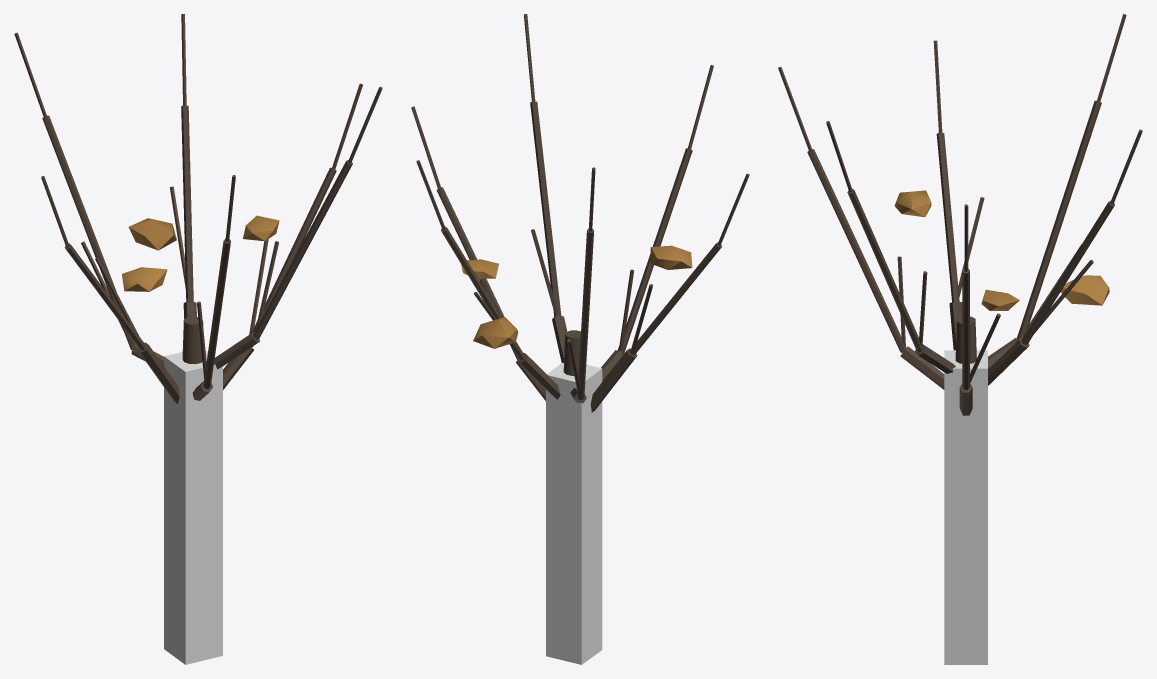
The model's file is tree_bare.glb.
3 renders of one model, left to right at view 1: azimuth 30°, elevation 25°; view 2: azimuth 150°, elevation 25°; view 3: azimuth 270°, elevation 25°, orthographic. The views are drawn at different scales.
Visible parts, largest first — view 1: tree_mesh, tree_bare-col; view 2: tree_mesh, tree_bare-col; view 3: tree_mesh, tree_bare-col.
Boxes of the visible parts, left/top/right/bottom form: tree_mesh: left=14, top=14, right=382, bottom=403; tree_bare-col: left=164, top=350, right=222, bottom=664; tree_mesh: left=411, top=14, right=749, bottom=412; tree_bare-col: left=546, top=362, right=602, bottom=664; tree_mesh: left=778, top=14, right=1142, bottom=415; tree_bare-col: left=944, top=350, right=987, bottom=664.
Size of the model in its own units: 3.61 by 6.01 by 3.35.
